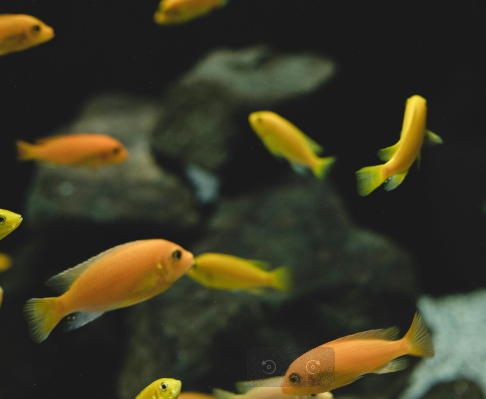fishSmall: (25, 239, 194, 344), (280, 312, 435, 396), (355, 94, 442, 199), (248, 108, 336, 178), (187, 252, 291, 297), (15, 131, 128, 172), (0, 13, 55, 55), (134, 376, 183, 399), (1, 204, 23, 240)
